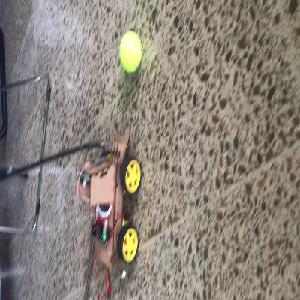Ball: (118, 31, 142, 72)
Robot: (76, 122, 142, 268)
